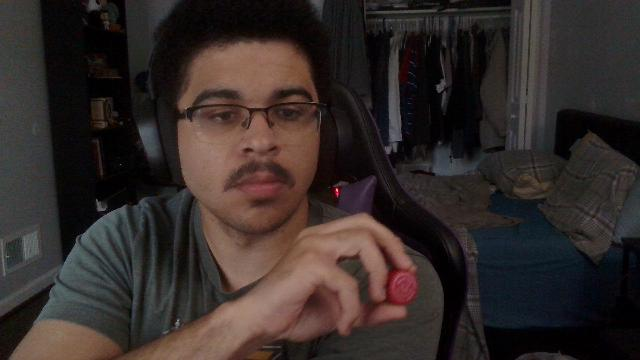cap: (387, 271, 418, 305)
